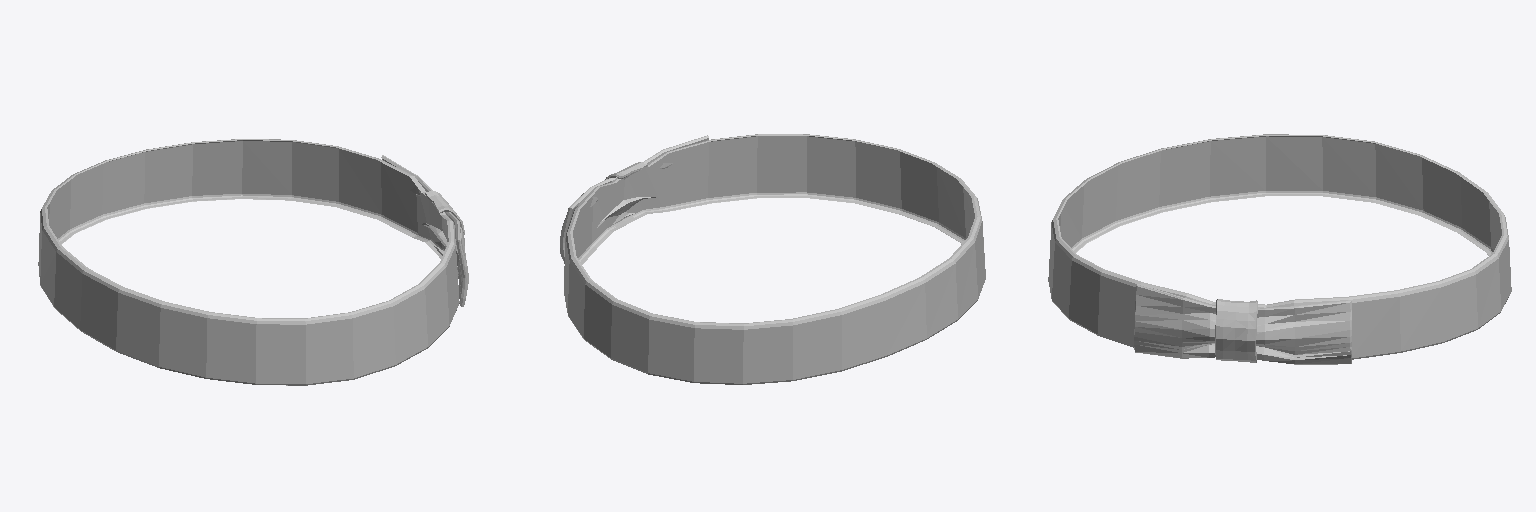
Rendered from cap.obj.
The picture shows the model from 3 angles: view 1: azimuth 30°, elevation 25°; view 2: azimuth 150°, elevation 25°; view 3: azimuth 270°, elevation 25°; orthographic projection.
Parts seen in each view (by area): view 1: cropped:polySurface7_Untitled.001; view 2: cropped:polySurface7_Untitled.001; view 3: cropped:polySurface7_Untitled.001.
Part boxes in pixels (bbox=[...]): cropped:polySurface7_Untitled.001: bbox=[38, 139, 468, 385]; cropped:polySurface7_Untitled.001: bbox=[560, 134, 985, 384]; cropped:polySurface7_Untitled.001: bbox=[1048, 134, 1511, 364].
Bounding box in the file's own units: 0.1847 × 0.0349 × 0.2024.